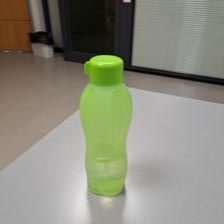bottle: (78, 50, 137, 196)
